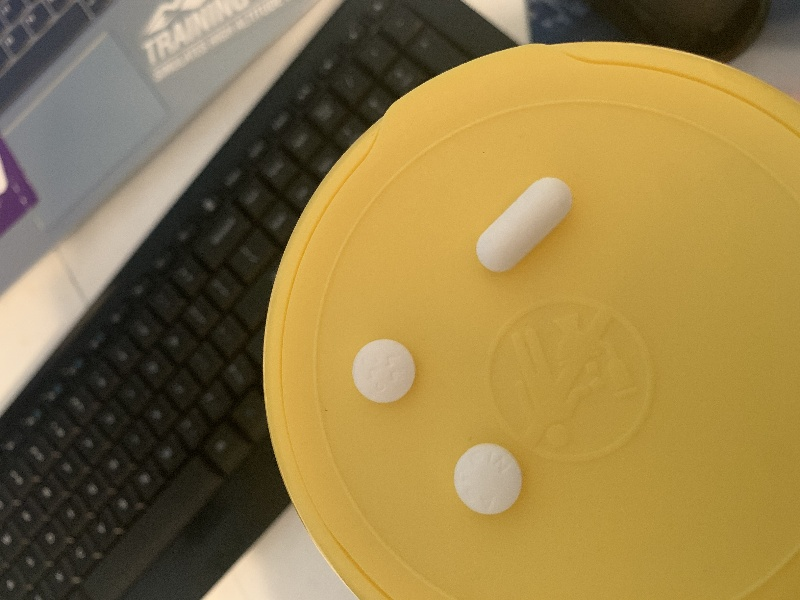Aspirin: (452, 441, 525, 517), (349, 337, 417, 404)
Tylenol: (473, 175, 576, 274)
